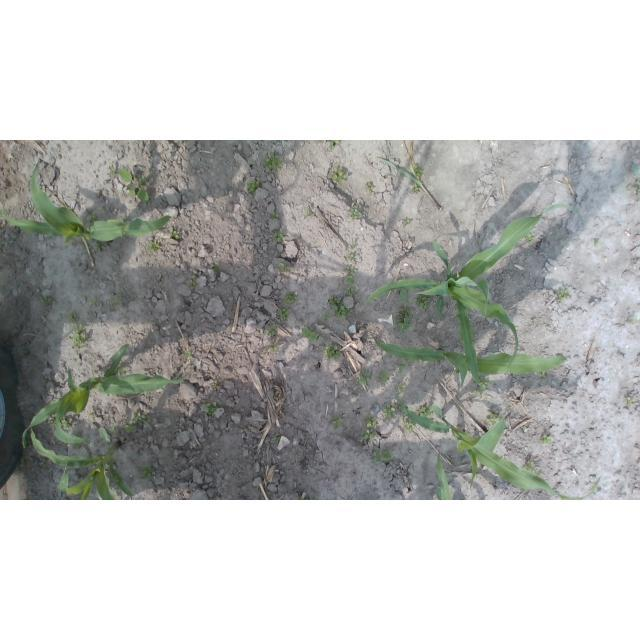Maize: (370, 203, 577, 387), (392, 388, 604, 500), (22, 345, 194, 444), (0, 160, 172, 244), (370, 334, 566, 390), (28, 424, 136, 500), (433, 452, 451, 501)
Weeds: (117, 168, 150, 202), (328, 297, 354, 320), (263, 149, 285, 173), (394, 306, 414, 332), (626, 164, 640, 199), (68, 324, 88, 348), (471, 370, 489, 396), (372, 446, 393, 464), (521, 457, 539, 477), (413, 294, 433, 312), (384, 403, 403, 421), (323, 344, 341, 363), (330, 167, 349, 185), (553, 286, 570, 304), (302, 327, 321, 342), (402, 413, 416, 433), (484, 412, 502, 427), (139, 464, 155, 480), (361, 430, 378, 445), (131, 412, 151, 424), (91, 238, 107, 253), (357, 370, 371, 387), (343, 268, 357, 285), (417, 404, 433, 418), (144, 240, 160, 254), (365, 414, 380, 428), (247, 180, 260, 196), (539, 433, 553, 447), (331, 415, 344, 430), (377, 369, 390, 384), (204, 402, 217, 417), (111, 294, 126, 307), (274, 228, 287, 242), (123, 421, 137, 434), (524, 231, 536, 246), (39, 294, 54, 306), (349, 207, 362, 220), (60, 415, 72, 429), (343, 284, 355, 297), (283, 293, 297, 304), (279, 307, 290, 321), (67, 310, 78, 324), (278, 262, 291, 273), (413, 164, 423, 178), (536, 371, 548, 382), (169, 228, 180, 239), (24, 433, 32, 448), (117, 364, 126, 377), (329, 140, 340, 150), (365, 183, 375, 194), (267, 325, 277, 336), (397, 360, 406, 372), (625, 397, 636, 406), (269, 211, 280, 220), (89, 298, 100, 307), (322, 311, 331, 321), (273, 433, 281, 444), (628, 316, 637, 325), (412, 183, 421, 192), (184, 350, 193, 359), (88, 214, 97, 223), (108, 165, 116, 175), (214, 263, 221, 274), (40, 459, 48, 468), (36, 394, 43, 404), (71, 443, 82, 449), (398, 384, 406, 392), (270, 343, 277, 352), (404, 219, 412, 226), (189, 280, 196, 288), (108, 427, 116, 434), (49, 420, 56, 428), (304, 207, 310, 216), (348, 254, 357, 260), (76, 431, 83, 438), (123, 215, 130, 222), (351, 241, 356, 250), (593, 239, 599, 246), (531, 318, 537, 325), (41, 379, 47, 386), (20, 459, 25, 467), (212, 383, 217, 390), (0, 208, 4, 215), (192, 275, 197, 279), (315, 140, 324, 142), (300, 319, 303, 322)
